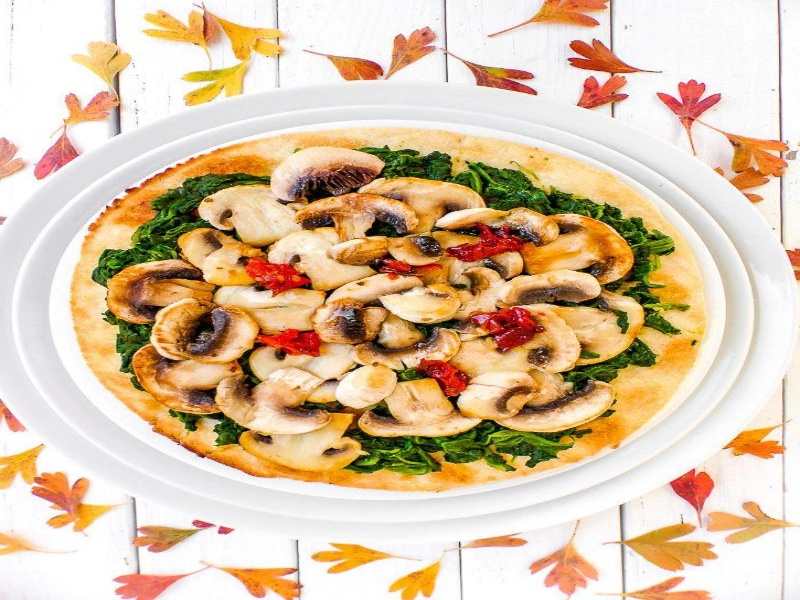champignon: (519, 199, 639, 292), (123, 346, 252, 420), (208, 368, 339, 440), (102, 253, 217, 335), (497, 369, 622, 437), (197, 177, 307, 253), (360, 377, 483, 439), (264, 139, 385, 199), (297, 191, 420, 249), (305, 291, 393, 358), (457, 369, 537, 424)
